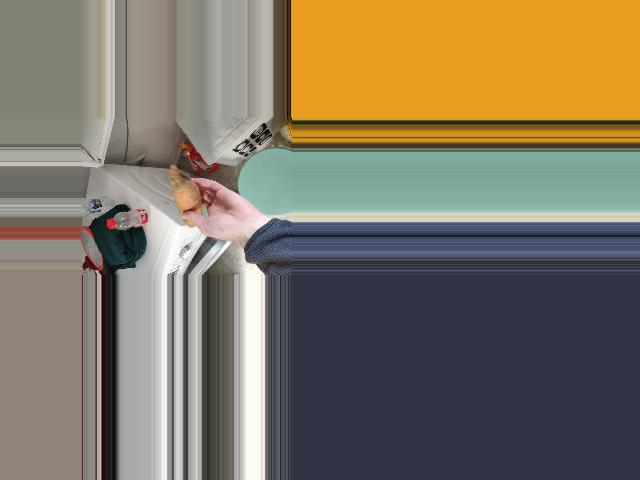sweet_potato: (173, 181, 200, 220)
